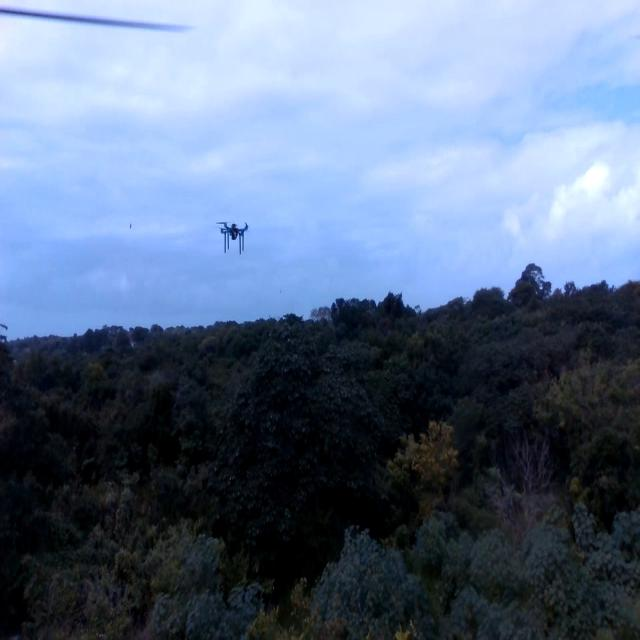-uav-: (211, 204, 252, 264)
